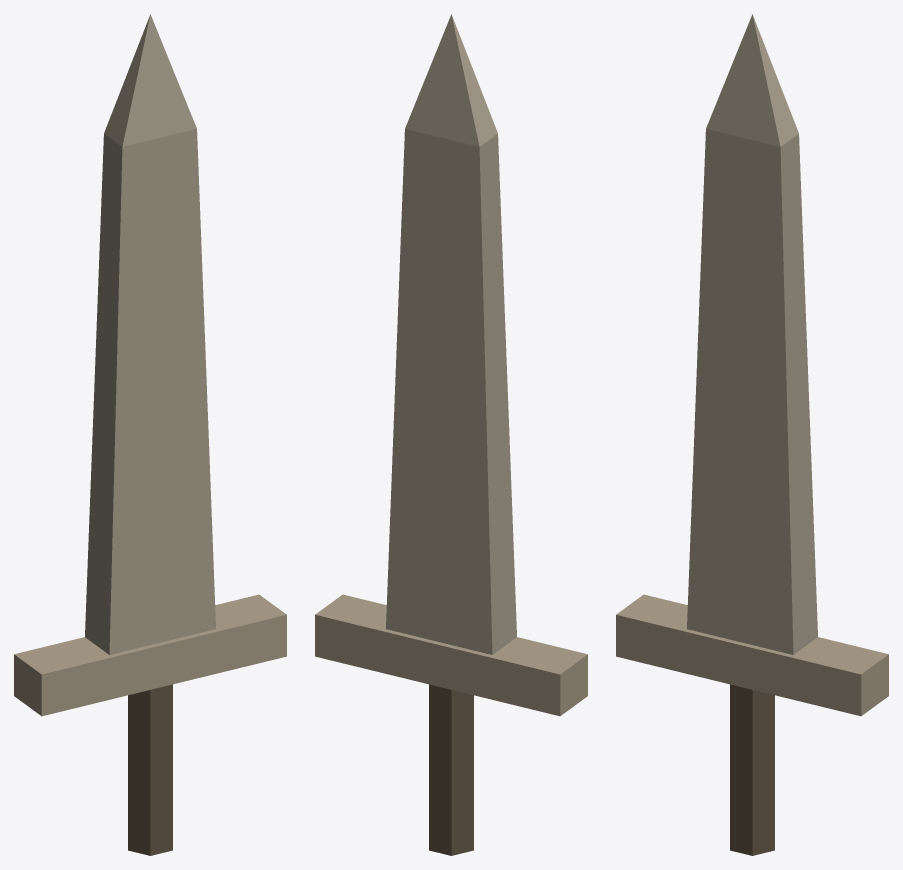
Rendered from Pawn_Greatsword.fbx.
3 renders of one model, left to right at view 1: azimuth 30°, elevation 25°; view 2: azimuth 150°, elevation 25°; view 3: azimuth 330°, elevation 25°, orthographic.
Visible parts, largest first — view 1: Pawn_Greatsword; view 2: Pawn_Greatsword; view 3: Pawn_Greatsword.
Part boxes in pixels (x1=…): Pawn_Greatsword: x1=14, y1=14, x2=286, y2=855; Pawn_Greatsword: x1=315, y1=14, x2=587, y2=855; Pawn_Greatsword: x1=616, y1=14, x2=888, y2=855.
Bounding box in the file's own units: 0.46 × 1.49 × 0.09.
